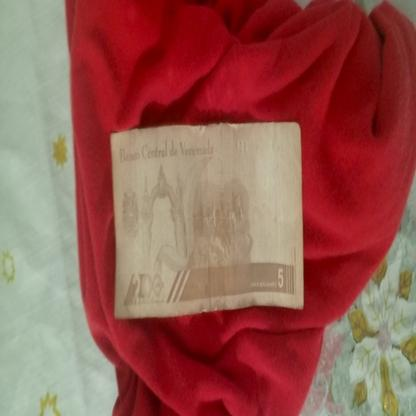five-back-vef: (109, 121, 304, 318)
